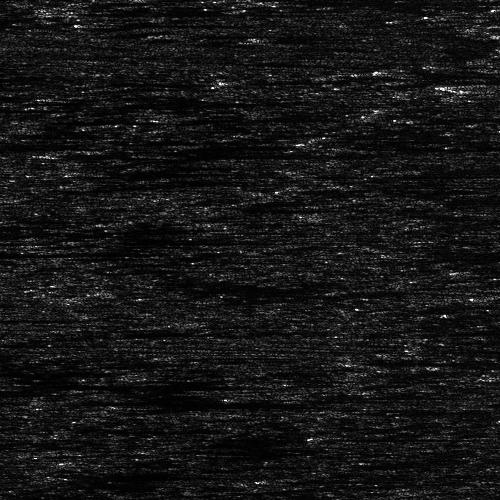rock: (0, 395, 148, 408), (2, 6, 95, 17), (419, 79, 500, 88), (119, 152, 150, 155), (0, 382, 15, 387), (346, 359, 357, 364), (498, 31, 500, 40)
shadow: (49, 6, 370, 17), (65, 395, 251, 408), (0, 248, 159, 259), (0, 382, 235, 387), (0, 105, 155, 112), (352, 359, 490, 364), (135, 152, 345, 155), (0, 339, 44, 348), (0, 316, 29, 321)
